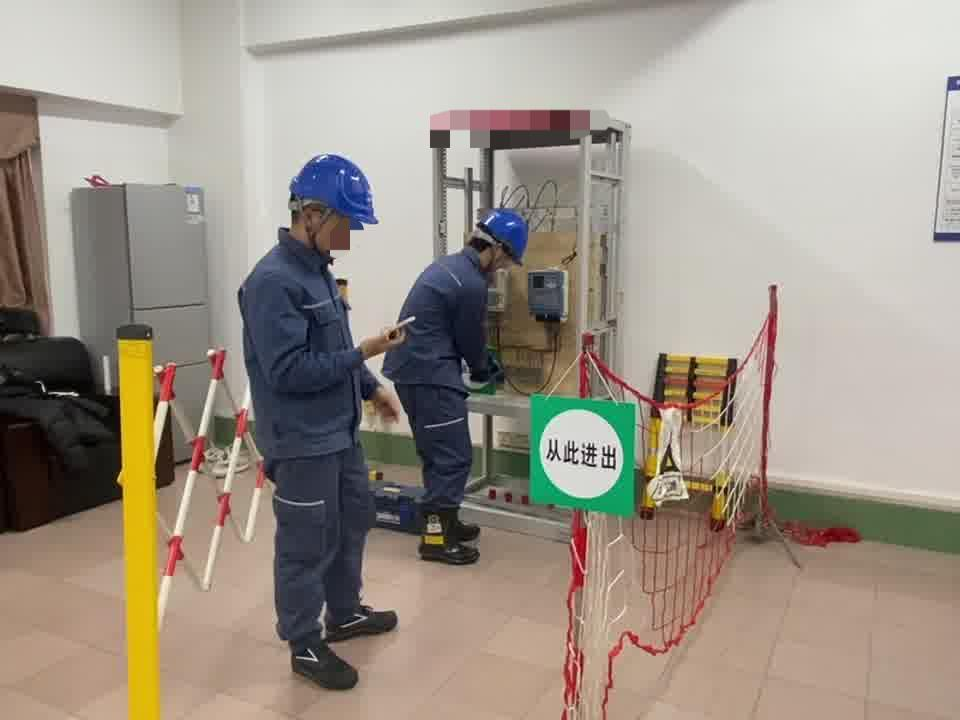halt: (287, 155, 381, 257), (478, 208, 533, 276)
inear: (299, 202, 333, 245), (486, 243, 510, 275)
